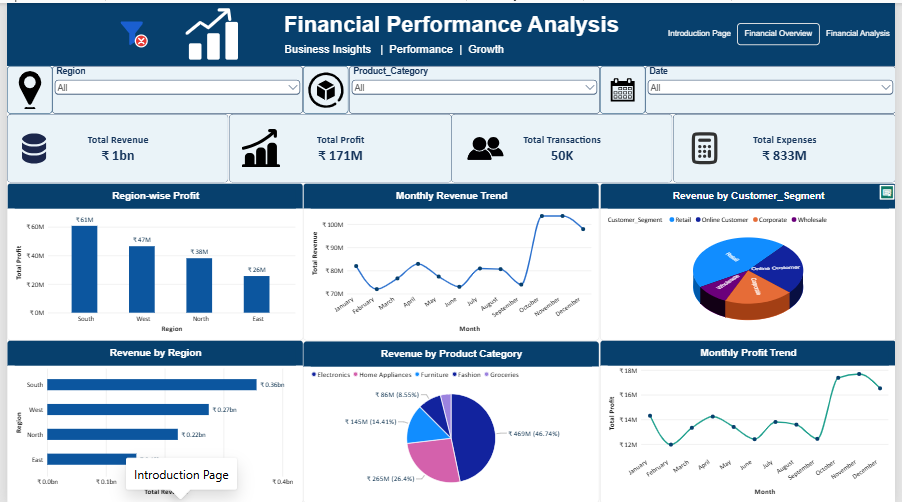

The page's visual inventory and layout, read from the dashboard file:
{"tool":"powerbi","page":{"name":"Financial Overview","canvas":[1920,1080],"ordinal":1},"visuals":[{"type":"slicer","fields":{"Values":["DateTable.Date"]},"box":[1378.3,136.1,541.7,103.3],"z":0},{"type":"slicer","fields":{"Values":["Financial Performance.Region"]},"box":[98.3,136.1,541.7,103.3],"z":1000},{"type":"cardVisual","fields":{"Data":["Financial Performance.Total Expenses"]},"box":[1438.7,239.4,481.3,148.7],"z":2000},{"type":"cardVisual","fields":{"Data":["Financial Performance.Total Transactions"]},"box":[960,239.4,478.7,148.7],"z":3000},{"type":"cardVisual","fields":{"Data":["Financial Performance.Total Profit"]},"box":[478.7,239.4,481.3,148.7],"z":4000},{"type":"cardVisual","fields":{"Data":["Financial Performance.Total Revenue"]},"box":[0,239.4,478.7,148.7],"z":5000},{"type":"clusteredBarChart","title":"Revenue by Region","fields":{"Category":["Financial Performance.Region"],"Y":["Financial Performance.Total Revenue"]},"box":[0,728.2,640,352.8],"z":6000},{"type":"pieChart","title":"Revenue by Product Category","fields":{"Category":["Financial Performance.Product_Category"],"Y":["Financial Performance.Total Revenue"]},"box":[640,730.7,640,350.2],"z":7000},{"type":"lineChart","title":"Monthly Profit Trend","fields":{"Category":["DateTable.Month"],"Y":["Financial Performance.Total Profit"]},"box":[1280,728.2,640,352.8],"z":8000},{"type":"columnChart","title":"Region-wise Profit","fields":{"Category":["Financial Performance.Region"],"Y":["Financial Performance.Total Profit"]},"box":[0,388,640,340.2],"z":9000},{"type":"lineChart","title":"Monthly Revenue  Trend","fields":{"Category":["DateTable.Month"],"Y":["Financial Performance.Total Revenue"]},"box":[640,388,640,340.2],"z":10000},{"type":"pieChartNewAA90D11FDE2D45BBADC4383C1313084F","title":" Revenue by Customer_Segment","fields":{"category":["Financial Performance.Customer_Segment"],"measure":["Financial Performance.Total Revenue"]},"box":[1280,388,640,340.2],"z":11000},{"type":"textbox","box":[0,0,1920,136.1],"z":12000},{"type":"slicer","fields":{"Values":["Financial Performance.Product_Category"]},"box":[738.3,136.1,541.7,103.3],"z":13000},{"type":"image","box":[20.2,272.1,78.1,83.1],"z":14000},{"type":"image","box":[1461.4,272.1,88.2,83.1],"z":15000},{"type":"image","box":[498.9,272.1,98.3,83.1],"z":16000},{"type":"image","box":[980.2,264.6,105.8,100.8],"z":17000},{"type":"textbox","box":[0,136.1,98.3,103.3],"z":18000},{"type":"textbox","box":[640,136.1,98.3,103.3],"z":19000},{"type":"textbox","box":[1280,136.1,98.3,103.3],"z":20000},{"type":"image","box":[1280,136.1,98.3,103.3],"z":21000},{"type":"image","box":[0,146.1,98.3,83.1],"z":22000},{"type":"image","box":[640,146.1,98.3,83.1],"z":23000},{"type":"textbox","box":[478.7,68,624.9,73.1],"z":24000},{"type":"image","box":[295.9,0,299.8,136.1],"z":25000},{"type":"image","box":[239.8,32.4,67,67],"z":25001},{"type":"actionButton","box":[1414.8,43.2,162,47.5],"z":25003},{"type":"actionButton","box":[1756.1,43.2,164.2,47.5],"z":25004},{"type":"actionButton","box":[1576.8,43.2,179.3,47.5],"z":25005}]}

Visuals, with their boxes on the page's 1920x1080 design canvas (x1, y1, x2, y2). These are canvas units, not pixel positions in the 902x502 screenshot, which may show the page scaled, cropped or inside an application window:
slicer - DateTable.Date: BBox(1378, 136, 1920, 239)
slicer - Financial Performance.Region: BBox(98, 136, 640, 239)
cardVisual - Financial Performance.Total Expenses: BBox(1439, 239, 1920, 388)
cardVisual - Financial Performance.Total Transactions: BBox(960, 239, 1439, 388)
cardVisual - Financial Performance.Total Profit: BBox(479, 239, 960, 388)
cardVisual - Financial Performance.Total Revenue: BBox(0, 239, 479, 388)
"Revenue by Region" clusteredBarChart: BBox(0, 728, 640, 1081)
"Revenue by Product Category" pieChart: BBox(640, 731, 1280, 1081)
"Monthly Profit Trend" lineChart: BBox(1280, 728, 1920, 1081)
"Region-wise Profit" columnChart: BBox(0, 388, 640, 728)
"Monthly Revenue  Trend" lineChart: BBox(640, 388, 1280, 728)
" Revenue by Customer_Segment" pieChartNewAA90D11FDE2D45BBADC4383C1313084F: BBox(1280, 388, 1920, 728)
textbox: BBox(0, 0, 1920, 136)
slicer - Financial Performance.Product_Category: BBox(738, 136, 1280, 239)
image: BBox(20, 272, 98, 355)
image: BBox(1461, 272, 1550, 355)
image: BBox(499, 272, 597, 355)
image: BBox(980, 265, 1086, 365)
textbox: BBox(0, 136, 98, 239)
textbox: BBox(640, 136, 738, 239)
textbox: BBox(1280, 136, 1378, 239)
image: BBox(1280, 136, 1378, 239)
image: BBox(0, 146, 98, 229)
image: BBox(640, 146, 738, 229)
textbox: BBox(479, 68, 1104, 141)
image: BBox(296, 0, 596, 136)
image: BBox(240, 32, 307, 99)
actionButton: BBox(1415, 43, 1577, 91)
actionButton: BBox(1756, 43, 1920, 91)
actionButton: BBox(1577, 43, 1756, 91)
